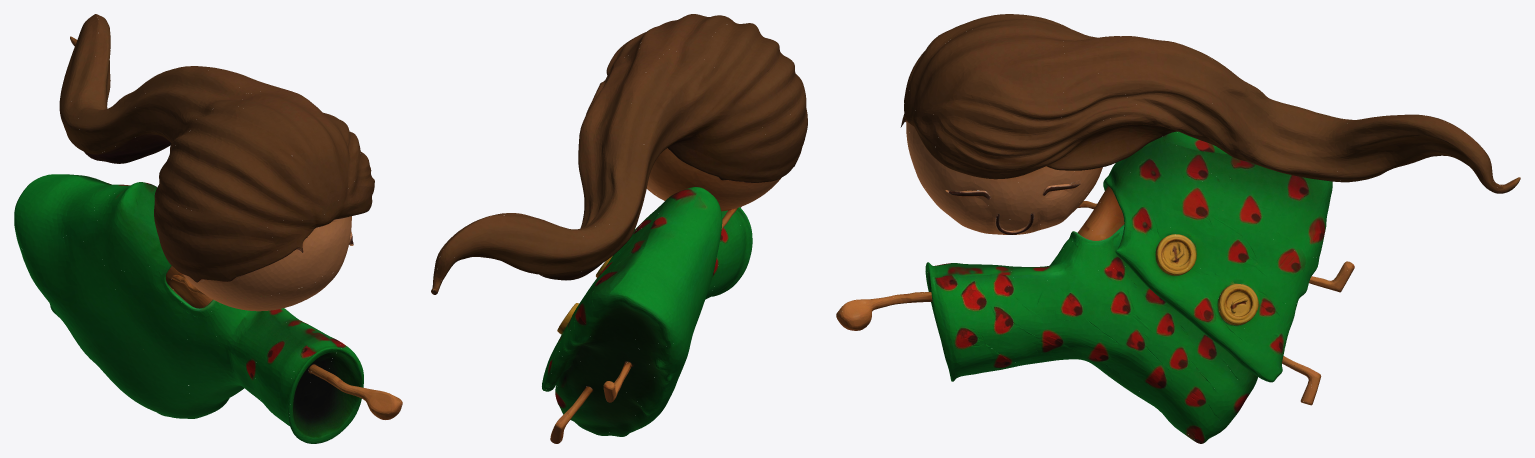
Rendered from Girl.glb.
3 views of the same model, side by side, from view 1: azimuth 30°, elevation 25°; view 2: azimuth 150°, elevation 25°; view 3: azimuth 270°, elevation 25° (orthographic). The views are drawn at different scales.
Visible parts, largest first — view 1: tripo_node_90b011cb-3a7d-48a0-83c6-9944ffa150be; view 2: tripo_node_90b011cb-3a7d-48a0-83c6-9944ffa150be; view 3: tripo_node_90b011cb-3a7d-48a0-83c6-9944ffa150be.
Boxes of the visible parts, bbox=[...] form: tripo_node_90b011cb-3a7d-48a0-83c6-9944ffa150be: bbox=[14, 14, 402, 443]; tripo_node_90b011cb-3a7d-48a0-83c6-9944ffa150be: bbox=[431, 14, 807, 443]; tripo_node_90b011cb-3a7d-48a0-83c6-9944ffa150be: bbox=[836, 14, 1520, 443].
Bounding box in the file's own units: 0.3512 × 0.6338 × 0.9832.
Materials: 1 (1 with a texture image).
